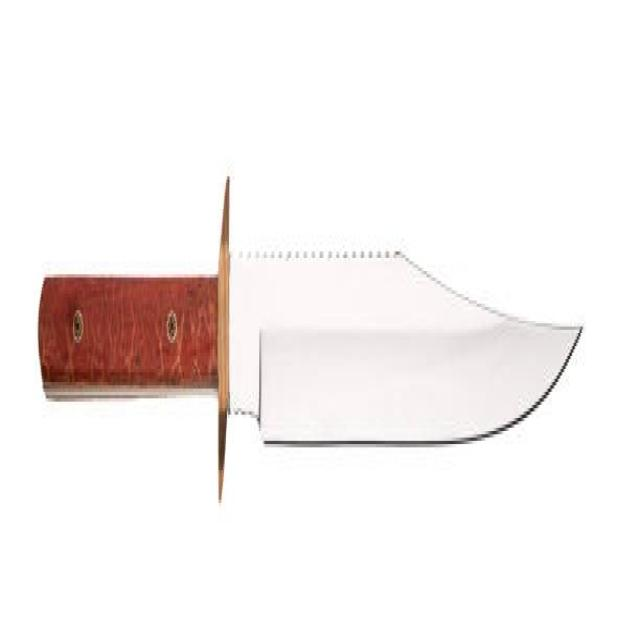knife: (36, 173, 588, 516)
